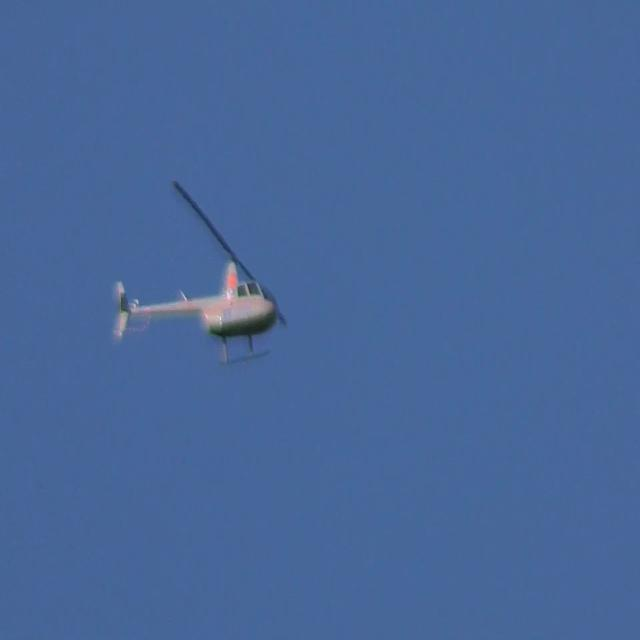CIV_HELO: (113, 256, 280, 371)
